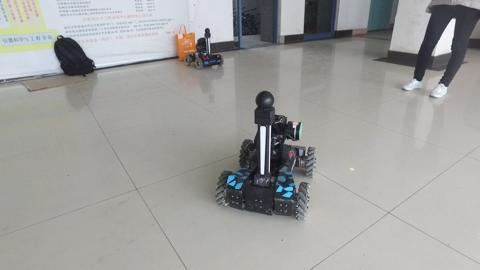bag: (50, 33, 100, 80), (174, 23, 196, 62)
chariot: (213, 88, 315, 224), (181, 25, 225, 70)
